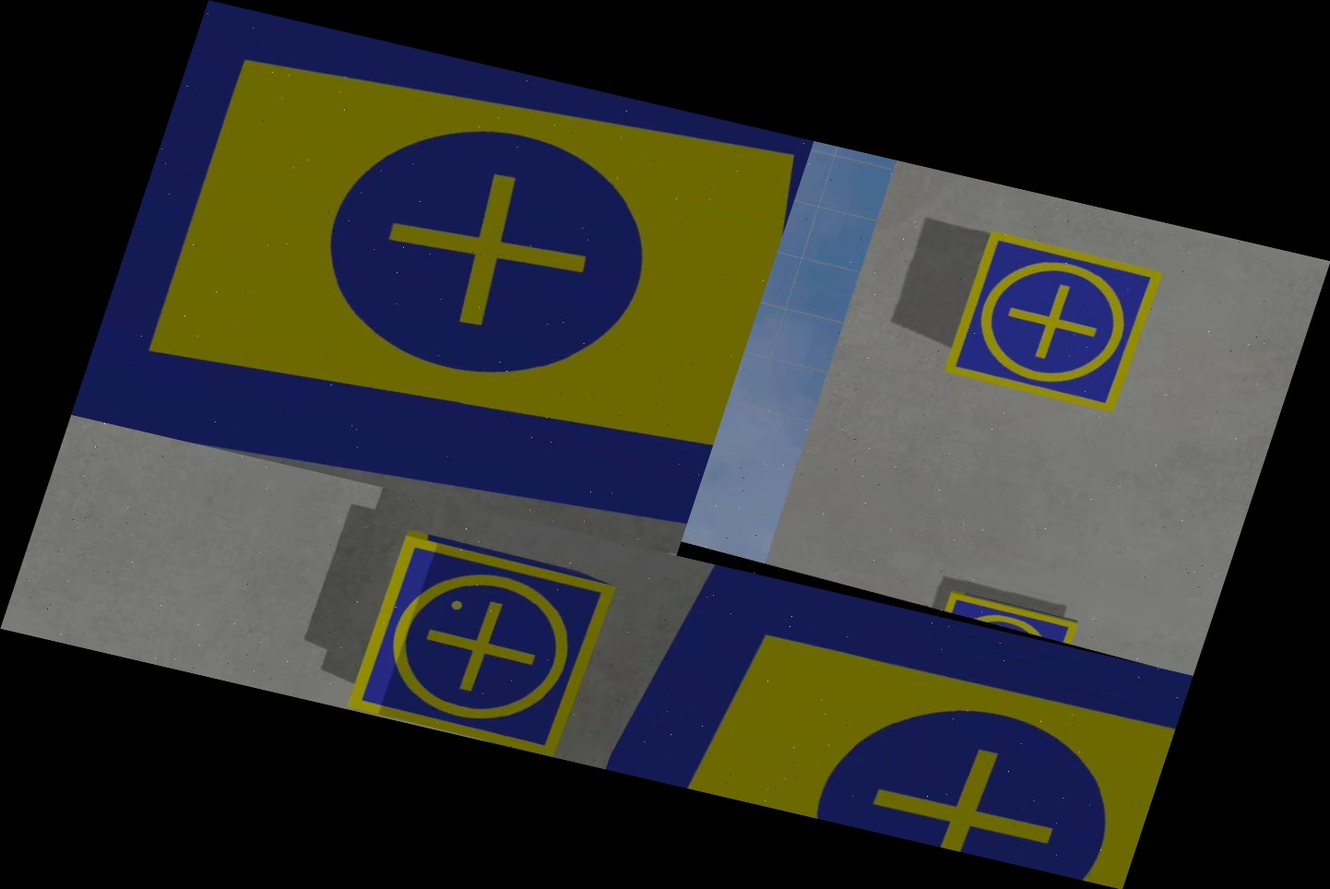large_base: (71, 0, 813, 555), (606, 555, 1192, 889)
small_base: (341, 531, 615, 757), (932, 225, 1170, 419), (939, 584, 1083, 647)
